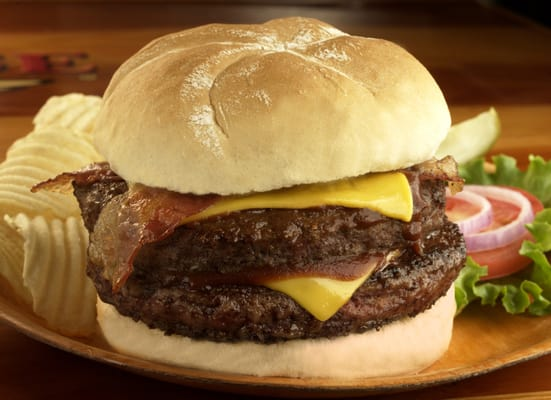soup: (41, 15, 476, 374)
sushi: (444, 183, 544, 279)
